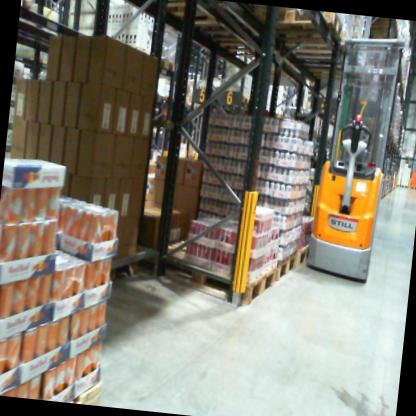pallet: (155, 242, 281, 313), (249, 5, 348, 46), (143, 0, 245, 31), (48, 363, 111, 404), (267, 246, 299, 286), (294, 235, 323, 276), (144, 54, 176, 81), (404, 154, 414, 161), (409, 183, 416, 190), (400, 183, 409, 188)
pallet_truck: (301, 24, 403, 292)
